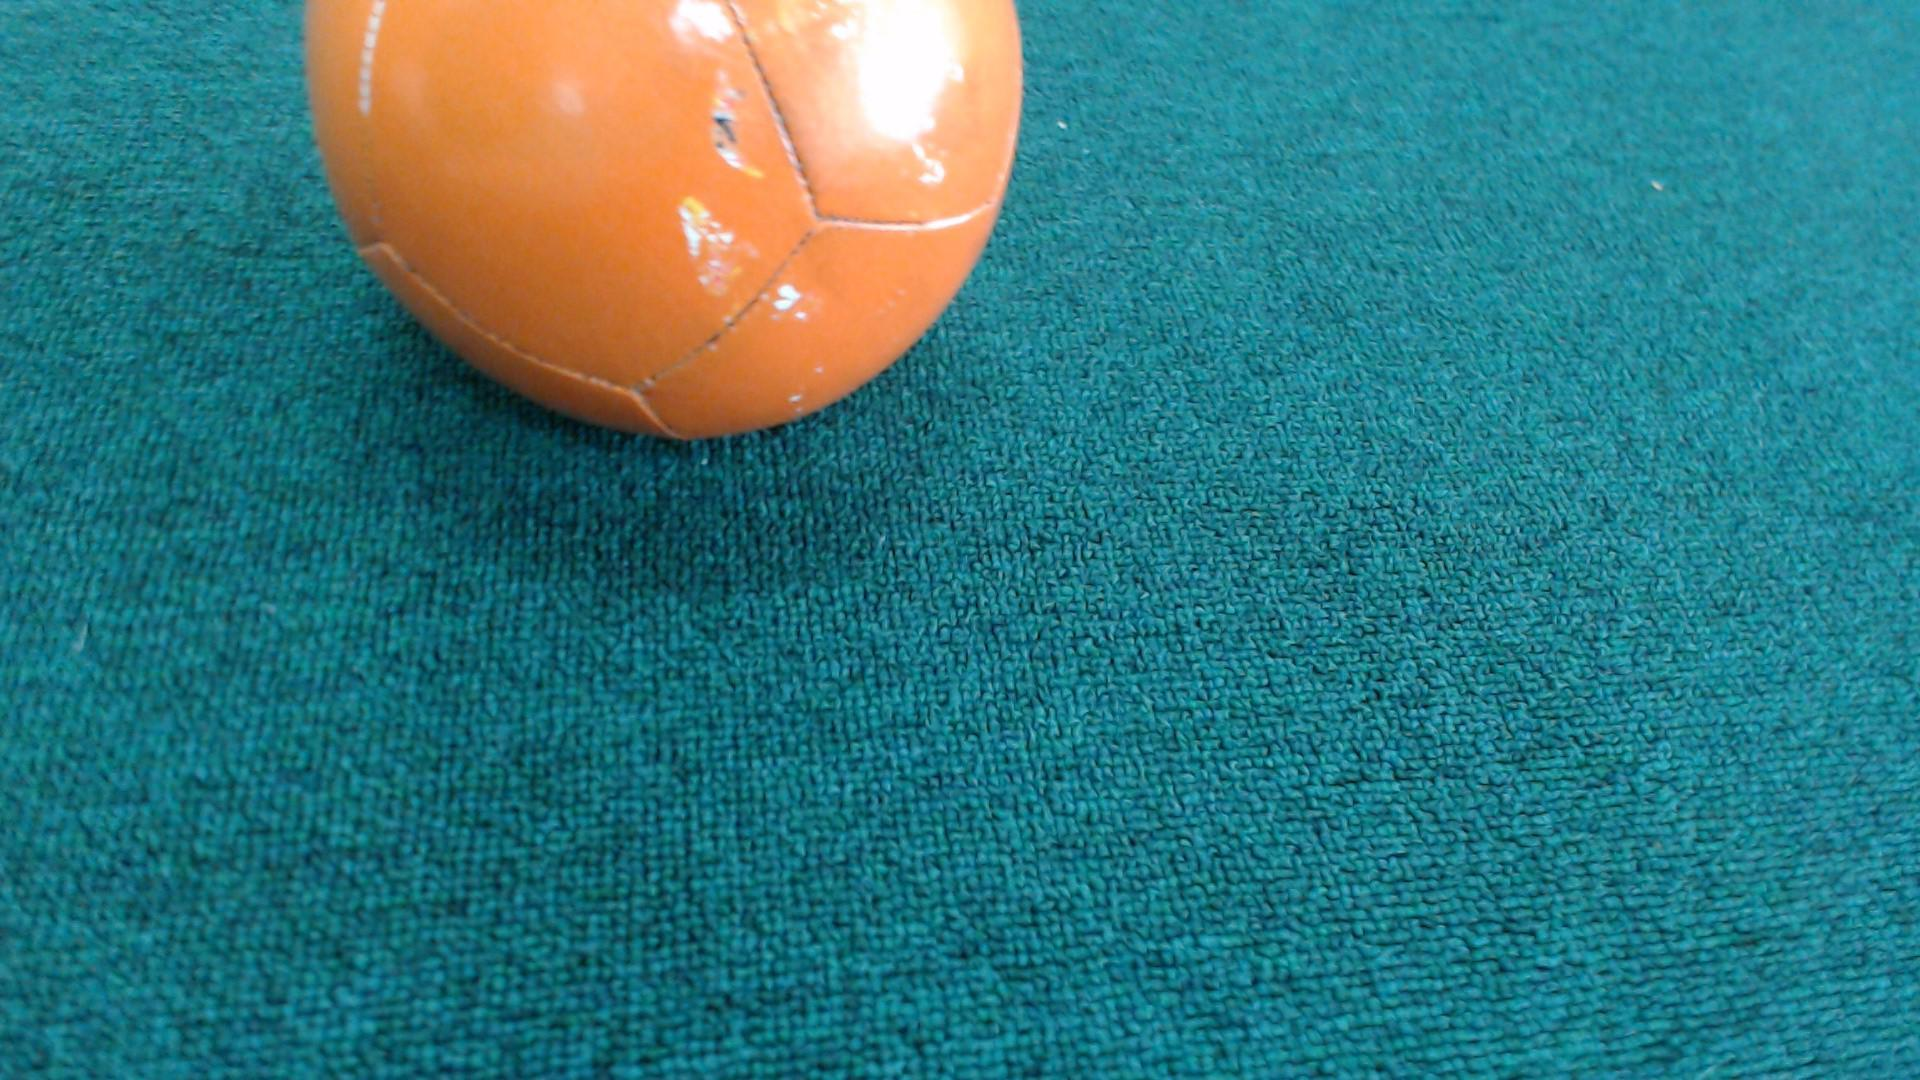bola: (268, 0, 1080, 468)
